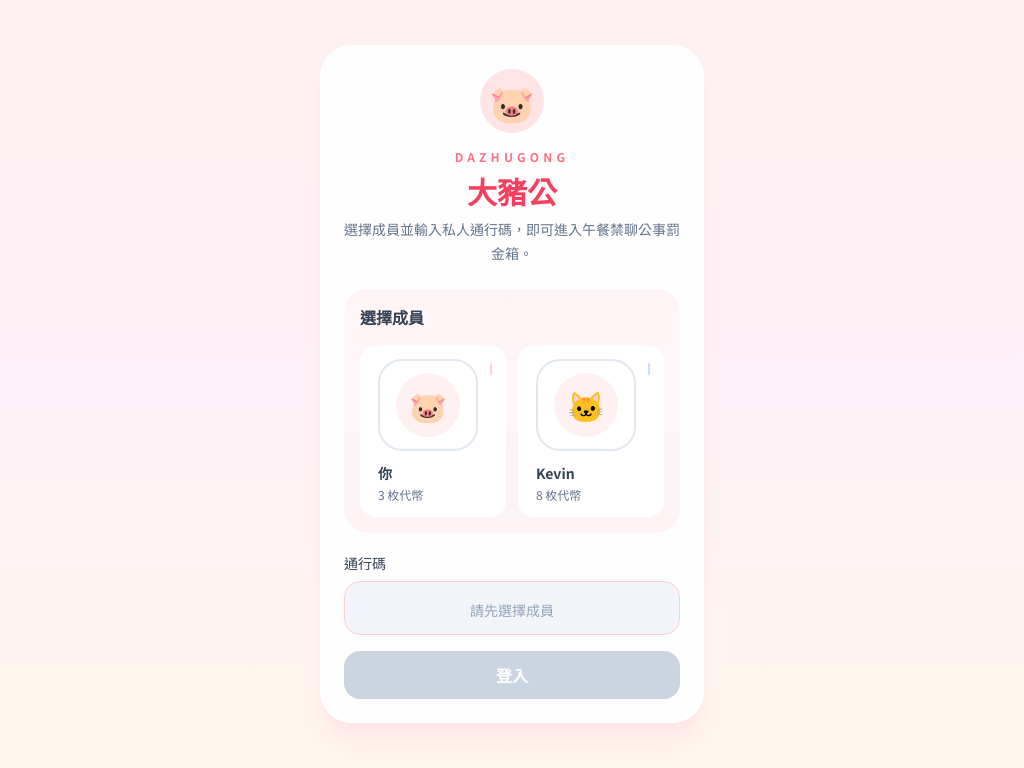
it: Login › shows a safe generic error for an invalid credential without leaking backend details
Click the button with aria-label "選擇成員 你" at x=433, y=431, box [360,345,506,517]
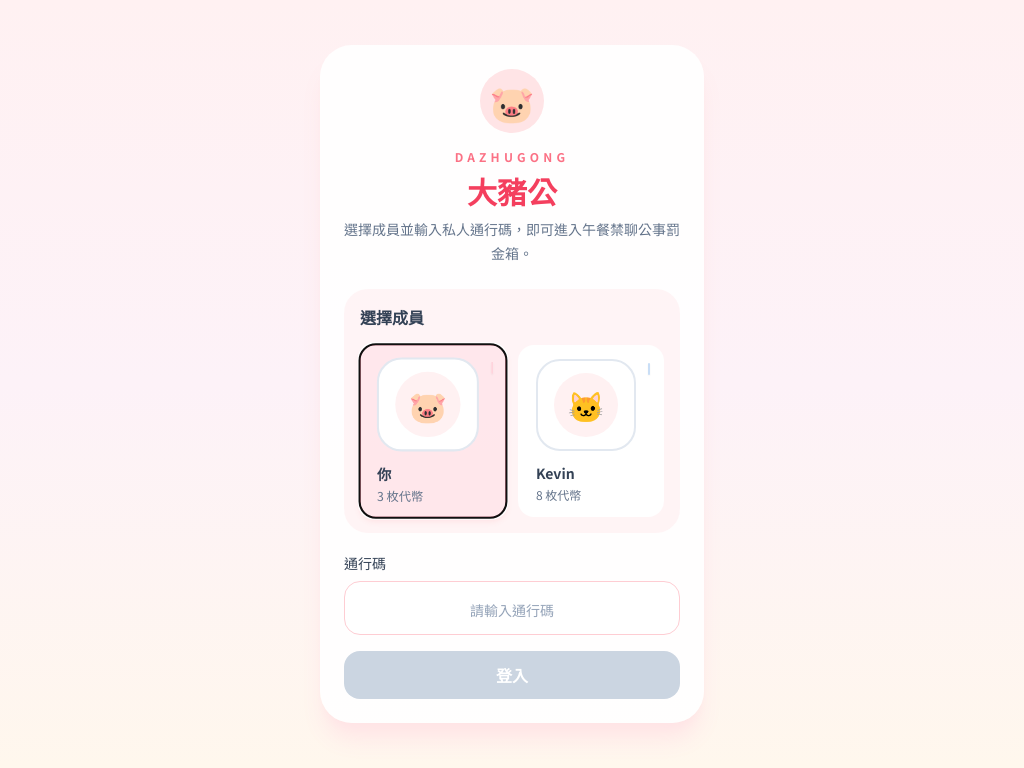
Type "Wrong!Access9X" into the password field labelled "通行碼" at x=512, y=608, box [344,581,680,635]
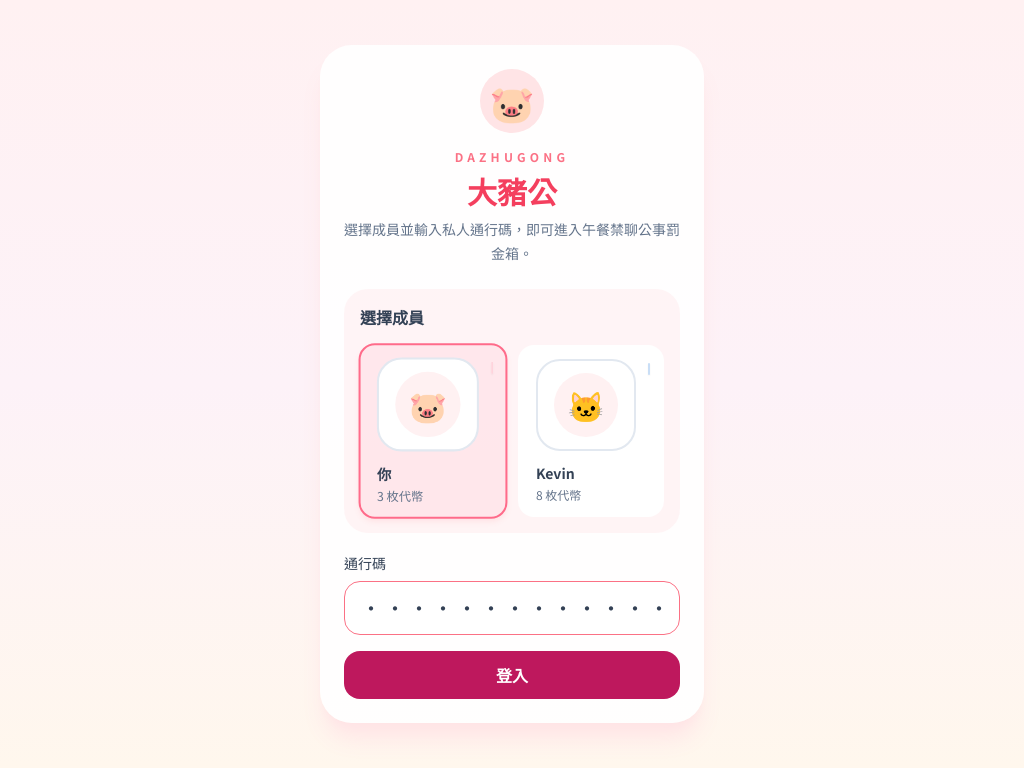
Click the button "登入" at x=512, y=675, box [344,651,680,699]
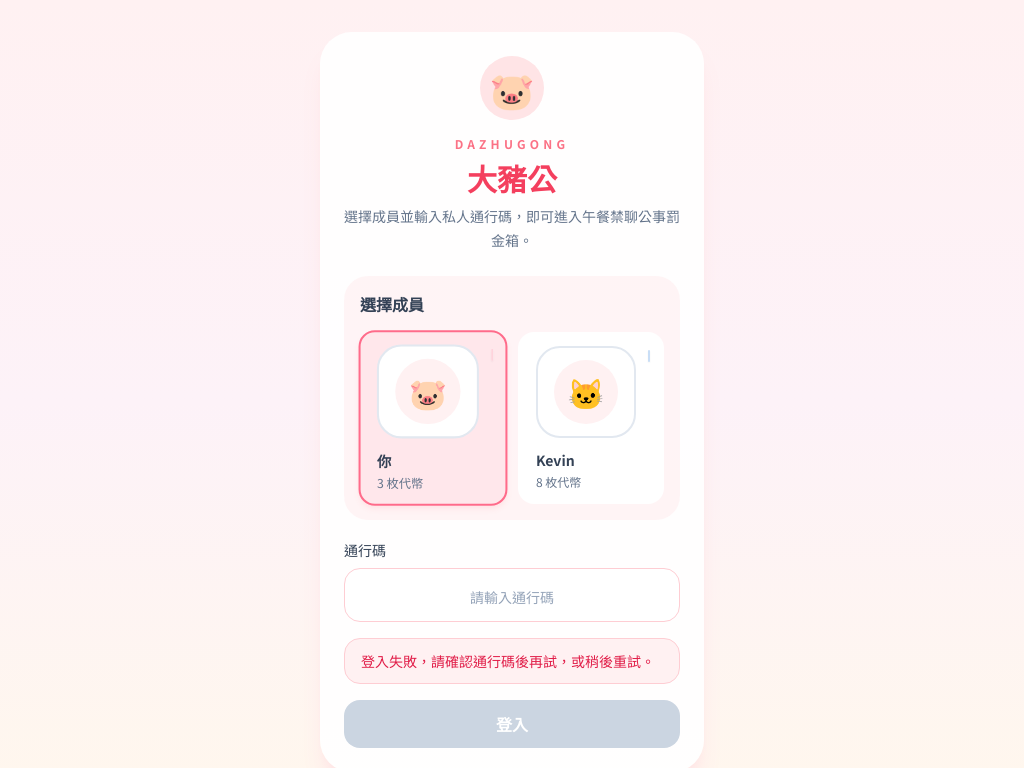
Result: the message shows "登入失敗" at [361,651,655,671]
Result: the message shows "通行碼" at [344,638,680,684]
Result: the password field labelled "通行碼" is empty at [344,568,680,622]
